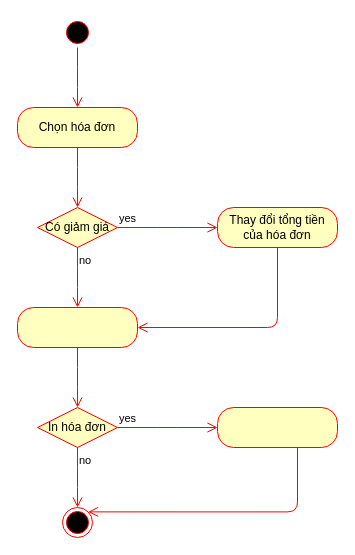
This 355x555 diagram has some shape labels left out. The box of each missing label's shape, as (x1, y1, x2, y2) in pixels:
Thanh toán hóa đơn: (16, 306, 138, 348)
Xuất hóa đơn cho khách: (216, 406, 338, 448)
